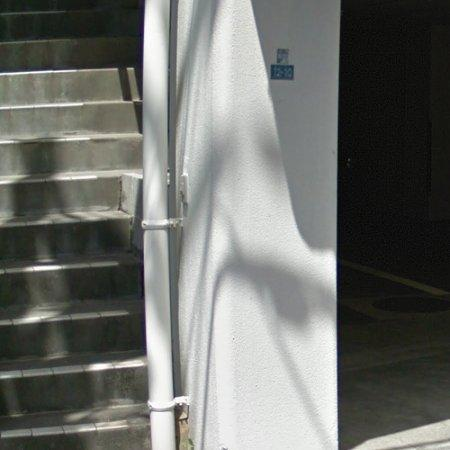stairs: (0, 5, 149, 450)
